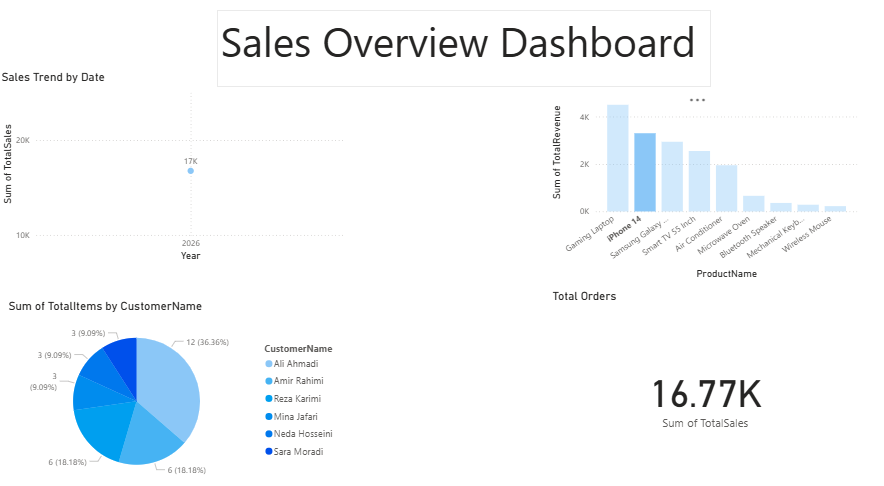

This screenshot's page, from the dashboard's own definition file:
{"tool":"powerbi","page":{"name":"Page 1","canvas":[1280,720],"ordinal":0},"visuals":[{"type":"lineChart","title":"Sales Trend by Date","fields":{"Category":["bi vw_Sales_By_Date.FullDate.Variation.Date Hierarchy.Year","bi vw_Sales_By_Date.FullDate.Variation.Date Hierarchy.Quarter","bi vw_Sales_By_Date.FullDate.Variation.Date Hierarchy.Month","bi vw_Sales_By_Date.FullDate.Variation.Date Hierarchy.Day"],"Y":["Sum(bi vw_Sales_By_Date.TotalSales)"]},"box":[0,115.9,503.9,280.5],"z":0},{"type":"clusteredColumnChart","title":"Top 10 Products by Sales","fields":{"Category":["bi vw_Sales_By_Product.ProductName"],"Y":["Sum(bi vw_Sales_By_Product.TotalRevenue)"]},"box":[791.2,115.9,451.9,305.7],"z":1},{"type":"pieChart","fields":{"Category":["bi vw_Sales_By_Customer.CustomerName"],"Y":["Sum(bi vw_Sales_By_Customer.TotalItems)"]},"box":[10.1,445.1,493.9,275.5],"z":2},{"type":"card","title":"Total Orders","fields":{"Values":["Sum(bi vw_Sales_By_Date.TotalSales)"]},"box":[792.9,430,450.2,290.6],"z":3},{"type":"textbox","box":[315.8,28.6,710.6,110.9],"z":4}]}

Visuals, with their boxes in screenshot pixels (x1, y1, x2, y2), scaled from the page's 1280x720 canvas onto the 884x486 screenshot:
"Sales Trend by Date" lineChart: locate(0, 78, 348, 268)
"Top 10 Products by Sales" clusteredColumnChart: locate(546, 78, 859, 285)
pieChart - bi vw_Sales_By_Customer.CustomerName x Sum(bi vw_Sales_By_Customer.TotalItems): locate(7, 300, 348, 485)
"Total Orders" card: locate(548, 290, 859, 485)
textbox: locate(218, 19, 709, 94)
